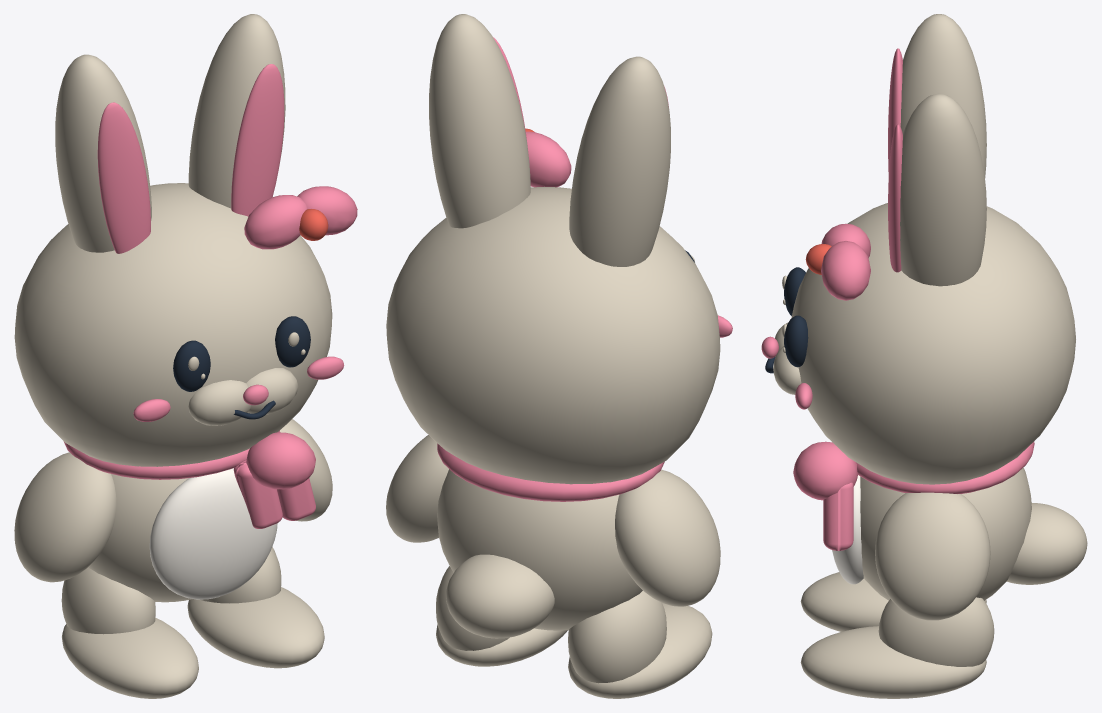
File: rabbit.glb
3 renders of one model, left to right at view 1: azimuth 30°, elevation 25°; view 2: azimuth 150°, elevation 25°; view 3: azimuth 270°, elevation 25°, orthographic. The views are drawn at different scales.
Visible parts, largest first — view 1: Porcelain, Rose, White tummy, Ink, Coral; view 2: Porcelain, Rose; view 3: Porcelain, Rose, Ink, White tummy.
Part boxes in pixels (x1,y1,x2,y2): Porcelain: [14, 14, 332, 698]; Rose: [63, 64, 357, 528]; White tummy: [149, 468, 277, 599]; Ink: [173, 316, 310, 419]; Coral: [299, 209, 328, 240]; Porcelain: [386, 14, 720, 698]; Rose: [437, 37, 732, 501]; Porcelain: [773, 14, 1087, 698]; Rose: [761, 48, 1034, 550]; Ink: [765, 267, 808, 373]; White tummy: [832, 475, 863, 584].
Bounding box in the file's own units: 1.84 × 3.58 × 1.75.
